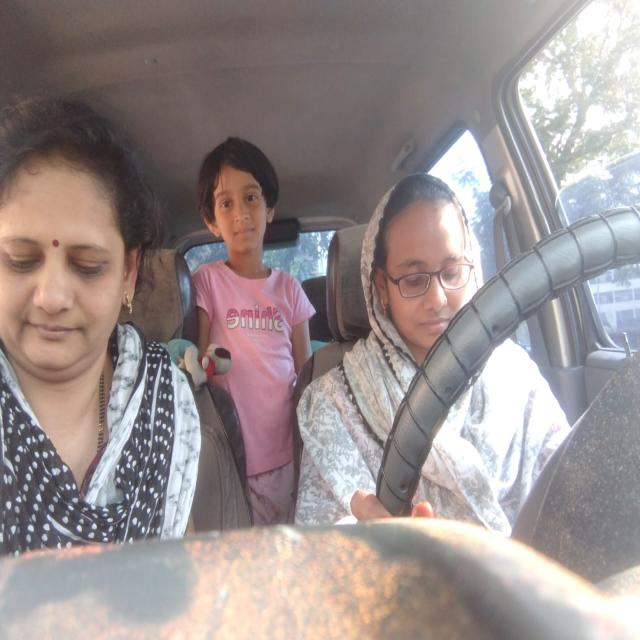drowsy: (350, 174, 508, 383)
person: (0, 84, 152, 399), (183, 122, 293, 289)
